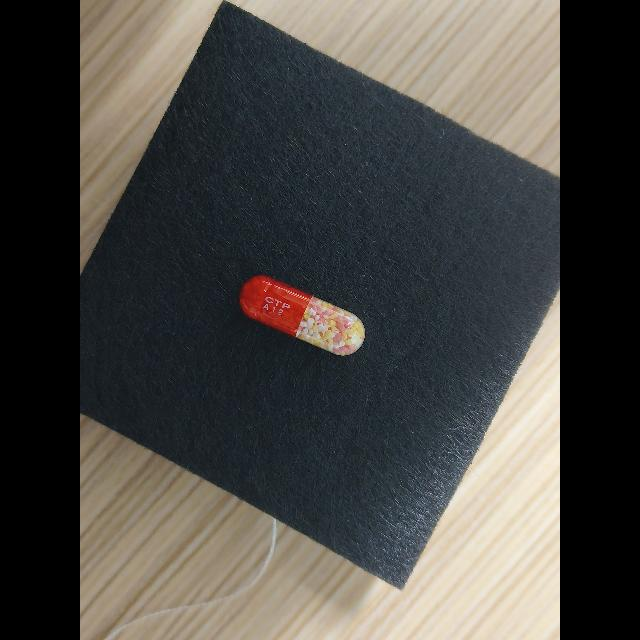Intact Capsule: (239, 275, 365, 355)
